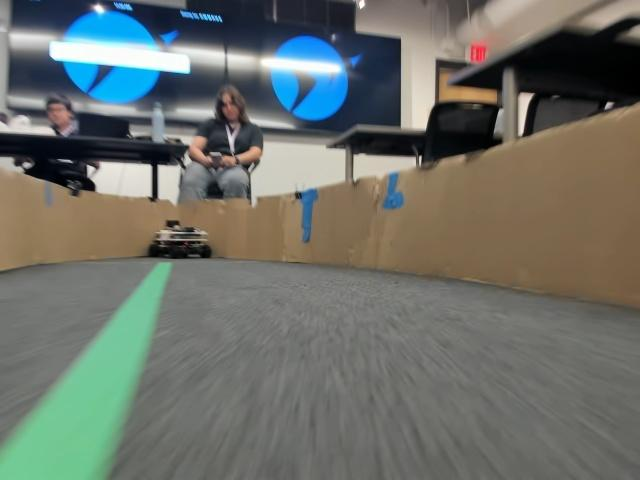Car: (147, 218, 212, 257)
